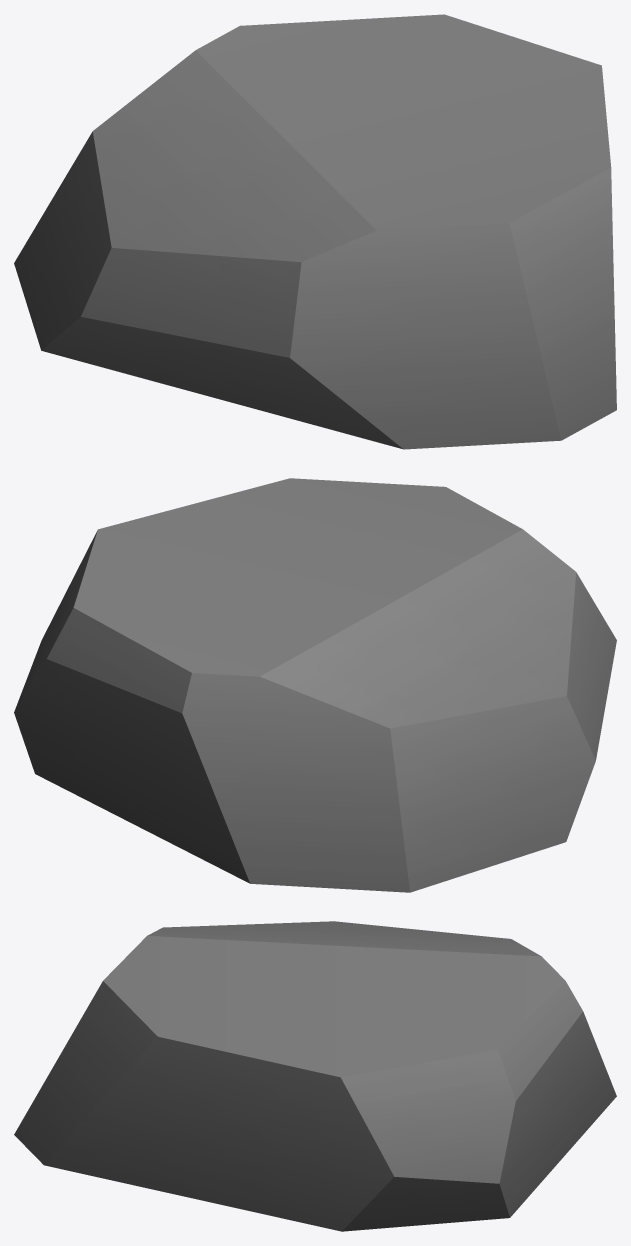
The model's file is SmallRock_03.fbx.
3 views of the same model, one above another, from view 1: azimuth 30°, elevation 25°; view 2: azimuth 150°, elevation 25°; view 3: azimuth 270°, elevation 25° (orthographic). The views are drawn at different scales.
Visible parts, largest first — view 1: small_rock_02; view 2: small_rock_02; view 3: small_rock_02.
Part boxes in pixels (x1,y1,x2,y2): small_rock_02: [14, 14, 616, 449]; small_rock_02: [14, 478, 616, 892]; small_rock_02: [14, 921, 616, 1231].
Size of the model in its own units: 304 by 93.46 by 332.
1 material, 1 textured.
